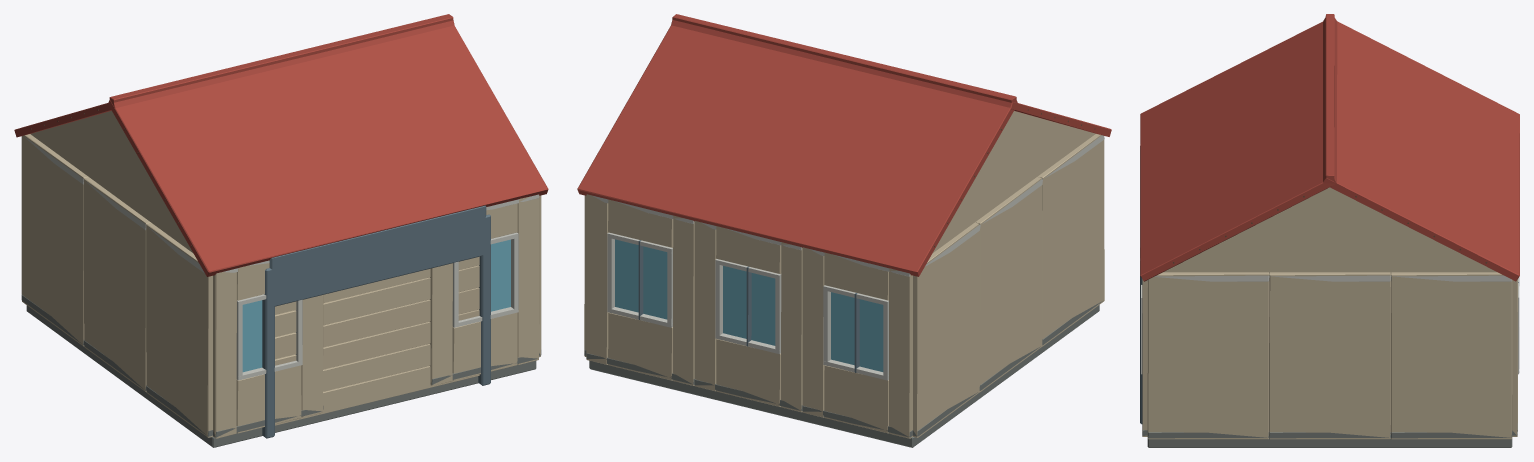
The model's file is architecture-garage.lod1.glb.
3 views of the same model, side by side, from view 1: azimuth 30°, elevation 25°; view 2: azimuth 150°, elevation 25°; view 3: azimuth 270°, elevation 25° (orthographic). The views are drawn at different scales.
Parts seen in each view (by area): view 1: architecture-garage__body, architecture-garage__loading_door; view 2: architecture-garage__body; view 3: architecture-garage__body.
Boxes of the visible parts, <box> form: architecture-garage__body: <box>14,14,548,447</box>; architecture-garage__loading_door: <box>275,256,479,425</box>; architecture-garage__body: <box>577,14,1111,447</box>; architecture-garage__body: <box>1140,14,1519,447</box>.
Bounding box in the file's own units: 6.31 × 5.03 × 6.25.
